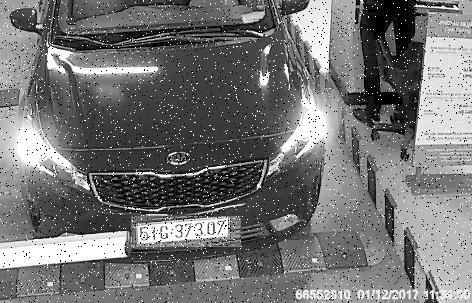License-plate: (132, 218, 242, 250)
